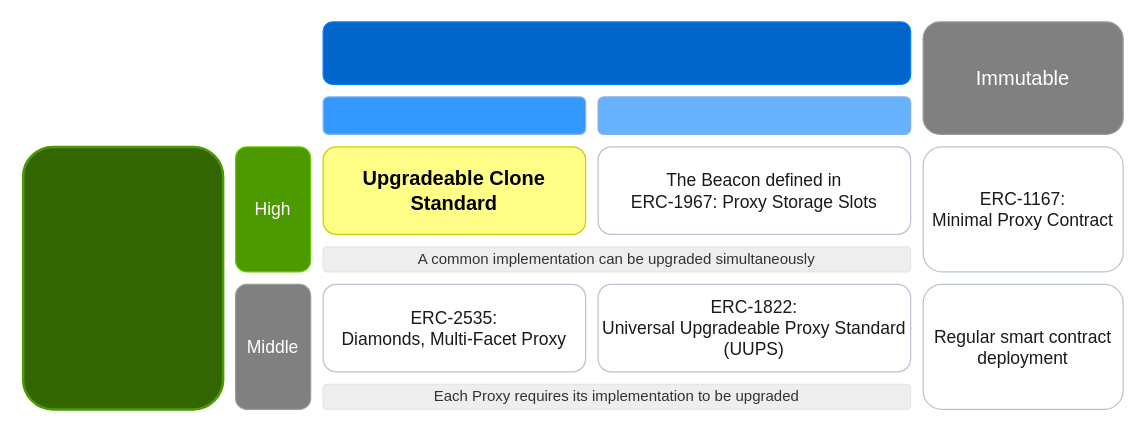
Some shapes in this 1145 by 433 pixel diagram are drawn without their labels. The box of each missing label's shape, as (x1, y1, x2, y2) in pixels:
Compatibility with the Factory/Clone: (21, 145, 224, 410)
Contract-level: (597, 96, 911, 134)
Function-level: (322, 96, 586, 134)
Upgradeable: (322, 21, 911, 84)
